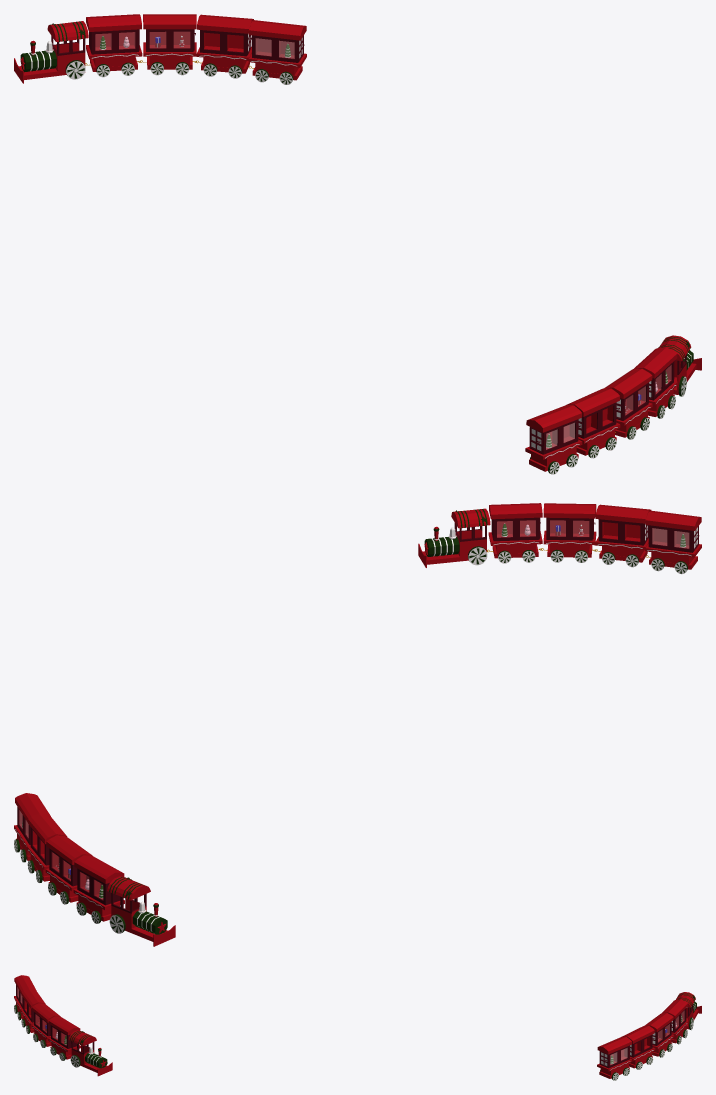
The model's file is Train.glb.
3 renders of one model, top to bottom at view 1: azimuth 30°, elevation 25°; view 2: azimuth 150°, elevation 25°; view 3: azimuth 270°, elevation 25°, orthographic. The views are drawn at different scales.
Parts seen in each view (by area): view 1: Cylinder.010_Material.001_0.002; view 2: Cylinder.010_Material.001_0.002; view 3: Cylinder.010_Material.001_0.002.
Boxes of the visible parts, left/top/right/bottom form: Cylinder.010_Material.001_0.002: left=14, top=14, right=701, bottom=474; Cylinder.010_Material.001_0.002: left=14, top=503, right=701, bottom=946; Cylinder.010_Material.001_0.002: left=14, top=975, right=701, bottom=1080.
Bounding box in the file's own units: 3.63 × 0.7952 × 14.23.
12 materials, 12 textured.
